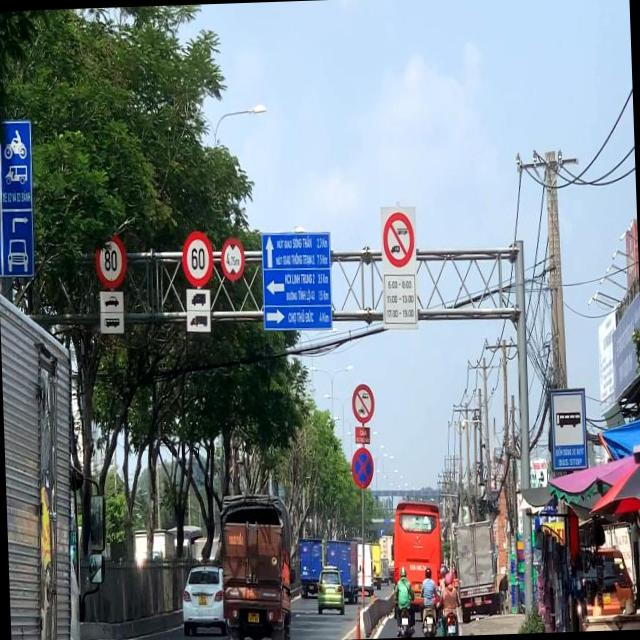P-117: (220, 235, 243, 280)
P-130: (350, 446, 372, 486)
